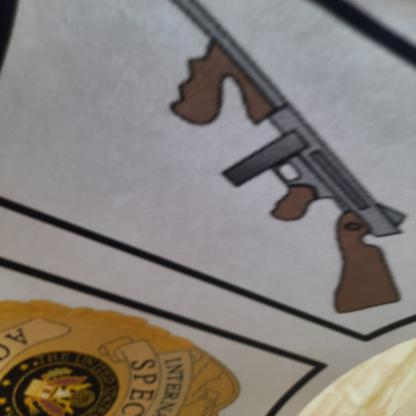Bootlegger: (112, 2, 416, 321)
